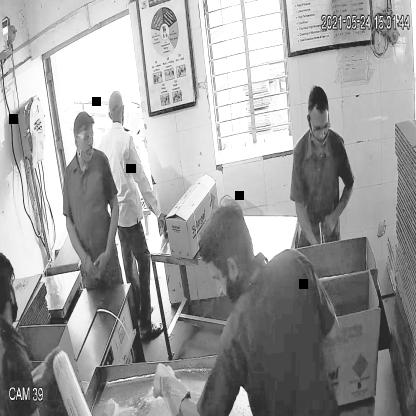goggles: (304, 110, 333, 138), (72, 130, 96, 149)
